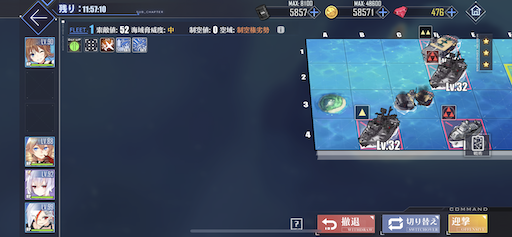lv1: (354, 105, 402, 150)
lv3: (441, 105, 487, 151), (425, 52, 470, 91)
